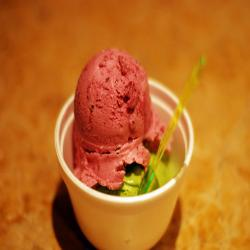icecream: (37, 30, 206, 216)
